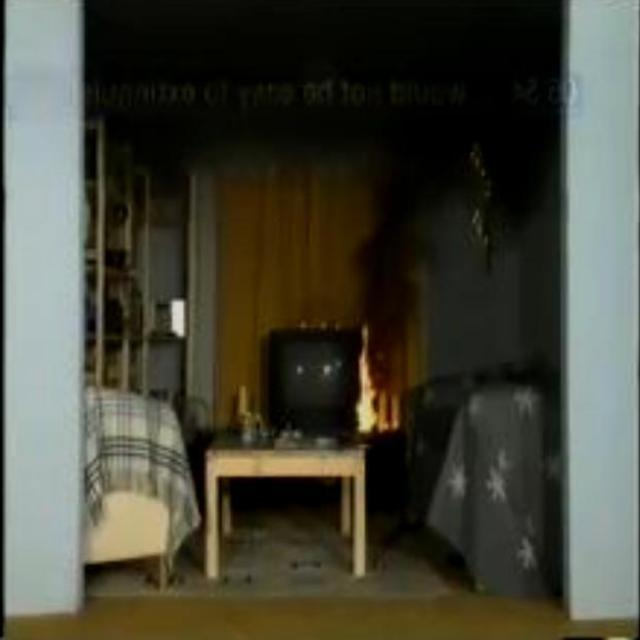fire: (84, 0, 562, 237), (352, 134, 442, 326)
smoke: (354, 324, 376, 432)
